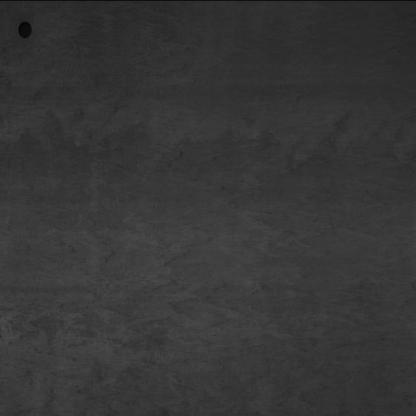punching_hole: (15, 17, 35, 40)
silk_spot: (11, 45, 402, 413)
